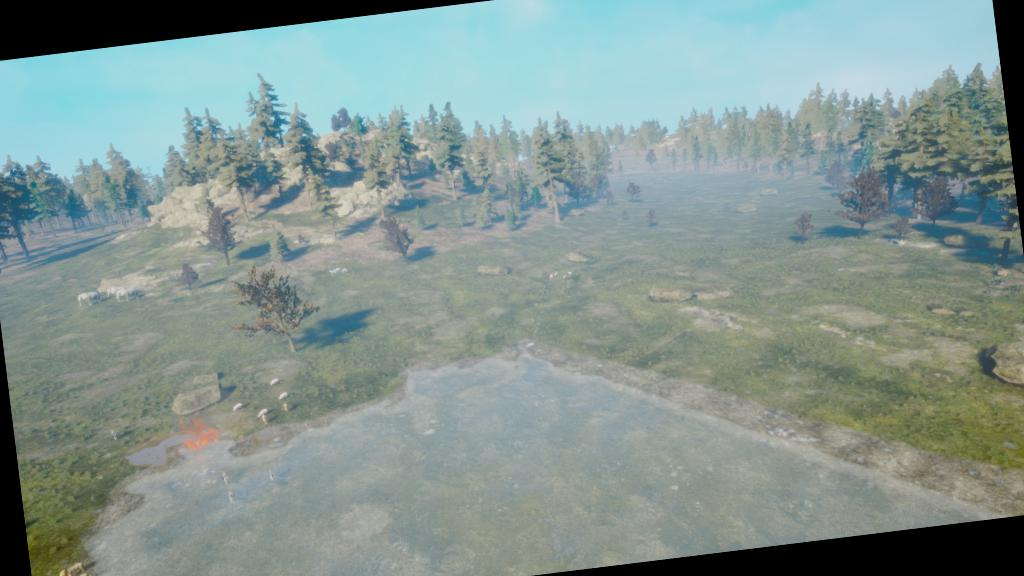Fire: (170, 410, 226, 458)
elephant: (114, 284, 146, 304), (76, 290, 104, 309), (106, 284, 128, 299)
human: (107, 426, 123, 444), (224, 488, 238, 508), (258, 412, 272, 430), (265, 466, 278, 485), (280, 401, 294, 417), (221, 470, 232, 486)
pig: (230, 400, 246, 414), (255, 406, 271, 419), (277, 391, 290, 401), (269, 377, 281, 386)
zebra: (339, 266, 351, 276), (328, 268, 338, 276), (333, 266, 342, 274)
